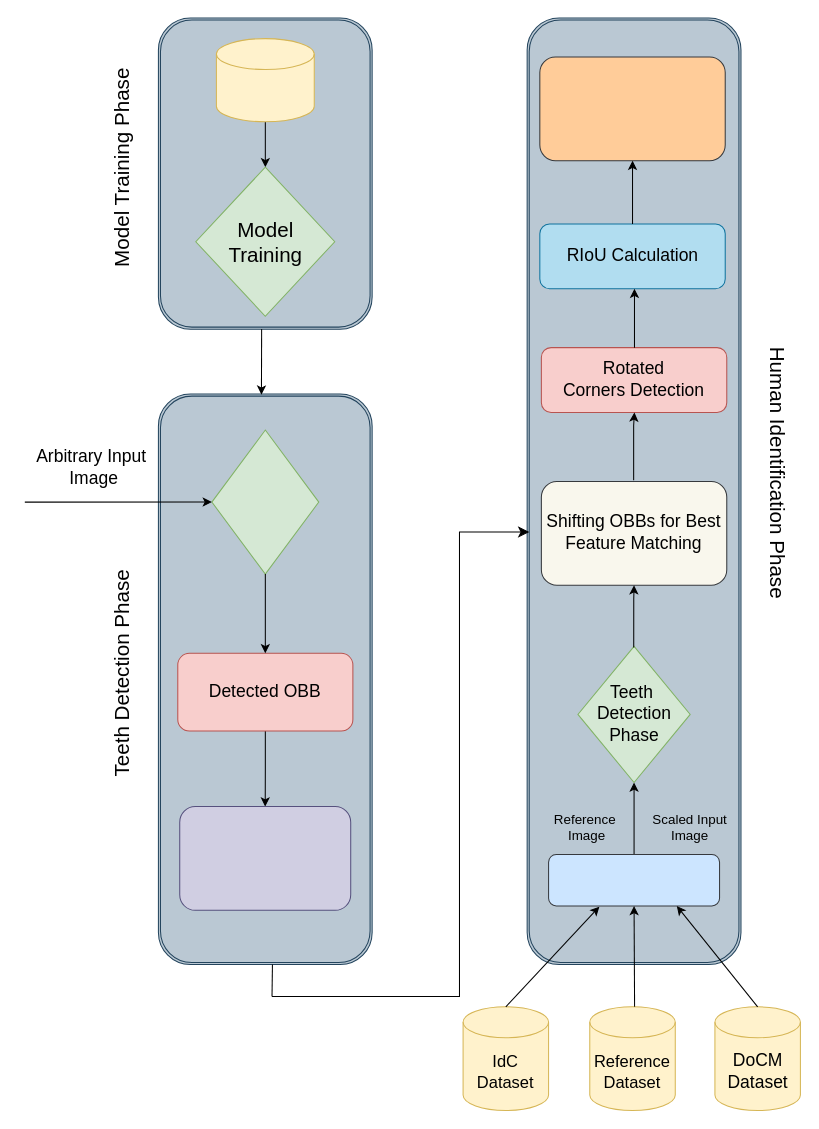
This 819x1129 diagram has some shape labels left out. The shapes that lost their labels are listed below. From the top down, each one's centre as x and y in pixels, then its label:
At (264,80): "Training Dataset".
At (632,108): "Identification Using Threshold Stepping".
At (265,501): "OBB Detection Model".
At (265,858): "Class wise Center, Height, Width and rotation angle extraction".
At (634,879): "SSIM".
